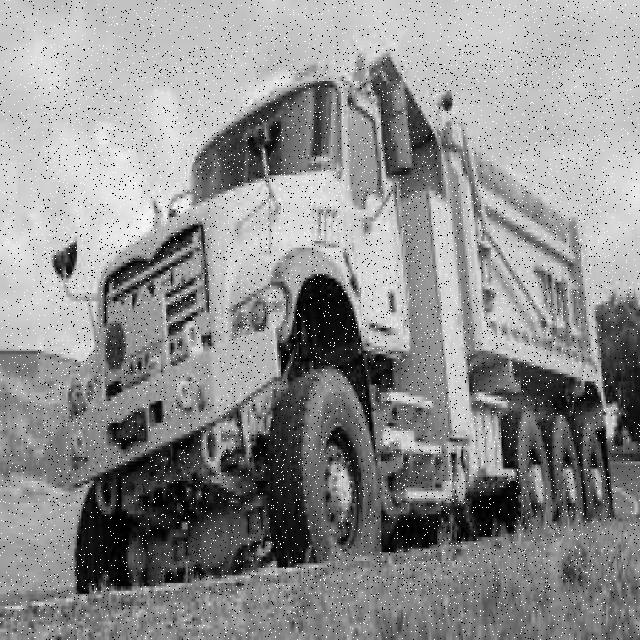Box Truck: (43, 47, 613, 596)
